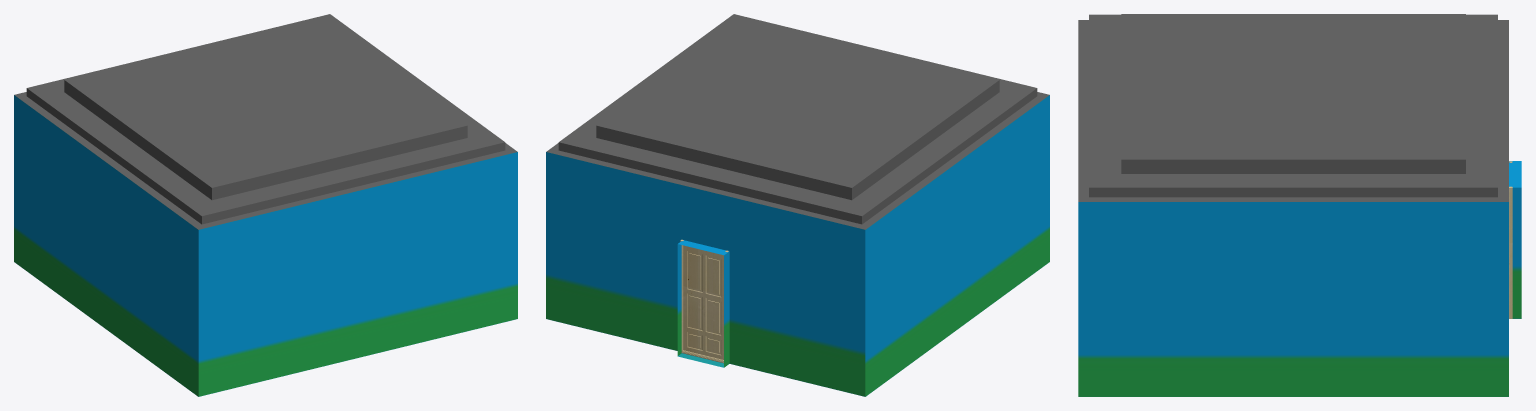
The model's file is wall.glb.
3 renders of one model, left to right at view 1: azimuth 30°, elevation 25°; view 2: azimuth 150°, elevation 25°; view 3: azimuth 270°, elevation 25°, orthographic. The views are drawn at different scales.
Parts seen in each view (by area): view 1: ceiling, wall3, wall1; view 2: ceiling, wall4, wall1, door; view 3: wall2, ceiling, wall4, door.
Part boxes in pixels (box(x1,y1,x2,y2)): ceiling: box(14, 14, 517, 229); wall3: box(198, 152, 517, 396); wall1: box(14, 95, 198, 396); ceiling: box(546, 14, 1049, 229); wall4: box(546, 152, 865, 396); wall1: box(865, 95, 1049, 396); door: box(680, 239, 728, 363); wall2: box(1078, 202, 1508, 396); ceiling: box(1078, 14, 1508, 201); wall4: box(1509, 161, 1521, 318); door: box(1509, 161, 1512, 318).
Bounding box in the file's own units: 4 × 2.25 × 4.12.
6 materials, 5 textured.
